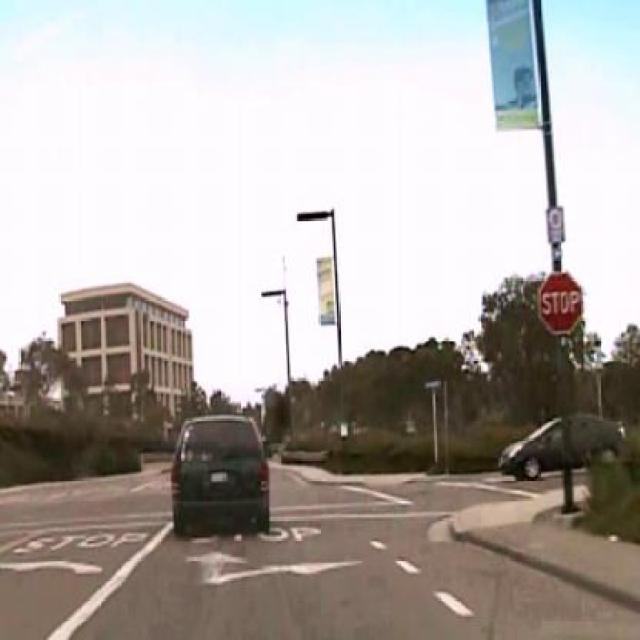stop: (538, 269, 584, 335)
